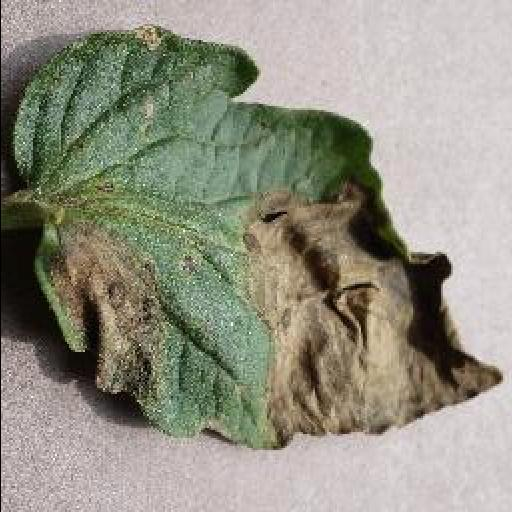disease_tomato: (10, 26, 506, 450)
